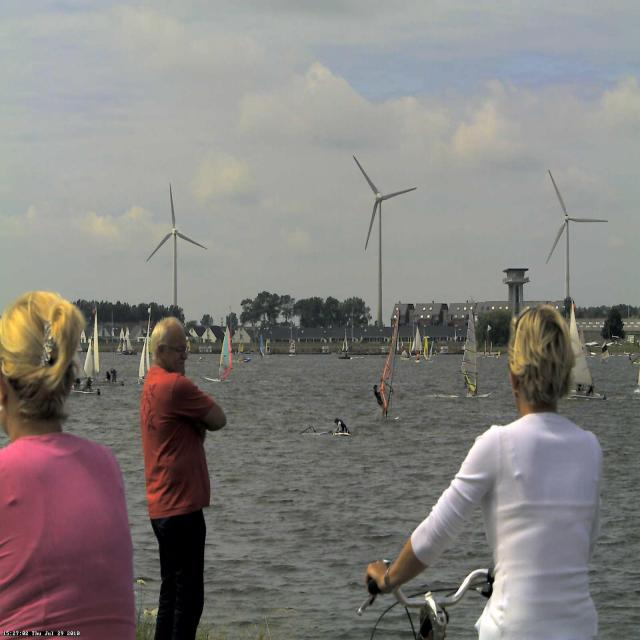other: (130, 360, 220, 514), (6, 287, 80, 398)
